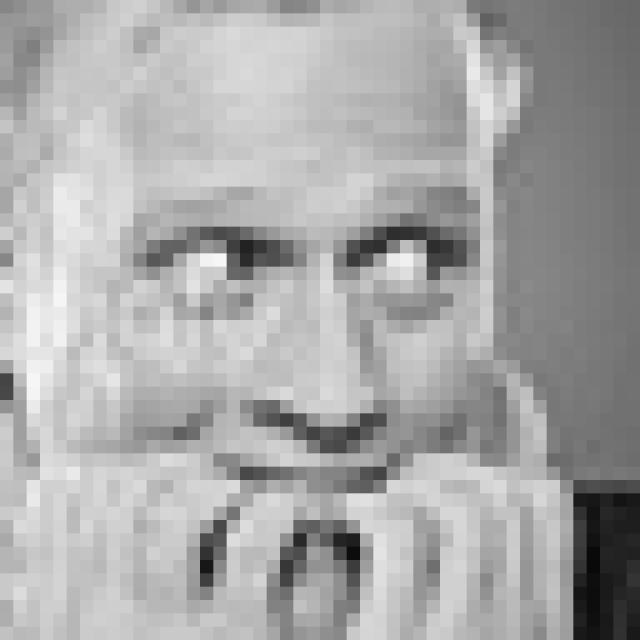fear: (110, 177, 484, 546)
